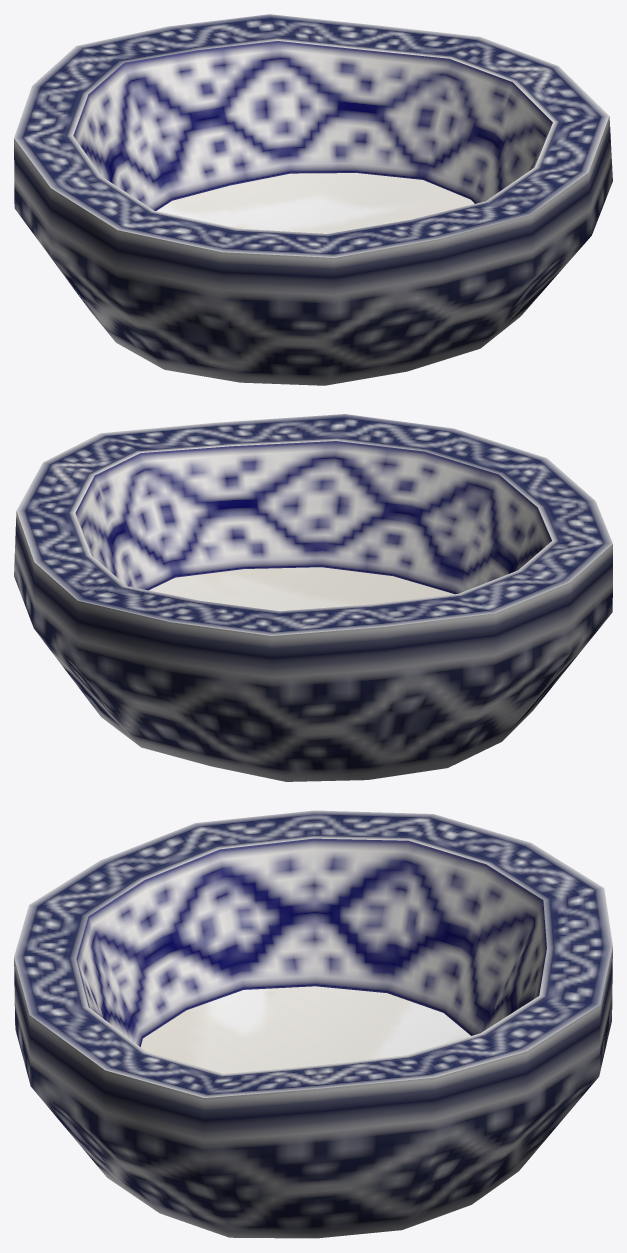
The model's file is SM_PROP_plate_city_01.fbx.
The picture shows the model from 3 angles, top to bottom: view 1: azimuth 30°, elevation 25°; view 2: azimuth 150°, elevation 25°; view 3: azimuth 270°, elevation 25°; orthographic projection. The views are drawn at different scales.
Visible parts, largest first — view 1: SM_PROP_plate_city_01; view 2: SM_PROP_plate_city_01; view 3: SM_PROP_plate_city_01.
Part boxes in pixels (box(x1,y1,x2,y2)): SM_PROP_plate_city_01: box(14, 14, 612, 385); SM_PROP_plate_city_01: box(14, 414, 612, 781); SM_PROP_plate_city_01: box(14, 810, 612, 1238).
Bounding box in the file's own units: 27.05 × 9.23 × 24.96.
